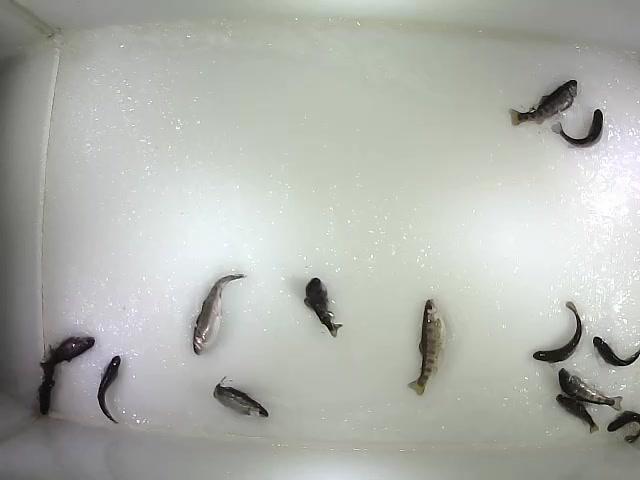fish: (193, 273, 248, 358), (406, 296, 447, 397), (532, 299, 584, 369), (508, 78, 579, 127), (558, 368, 624, 412), (212, 375, 270, 420), (303, 277, 344, 339), (39, 336, 96, 376), (551, 108, 604, 151), (97, 354, 122, 426), (556, 394, 600, 434), (592, 335, 640, 368), (38, 344, 58, 417), (606, 411, 640, 452)
